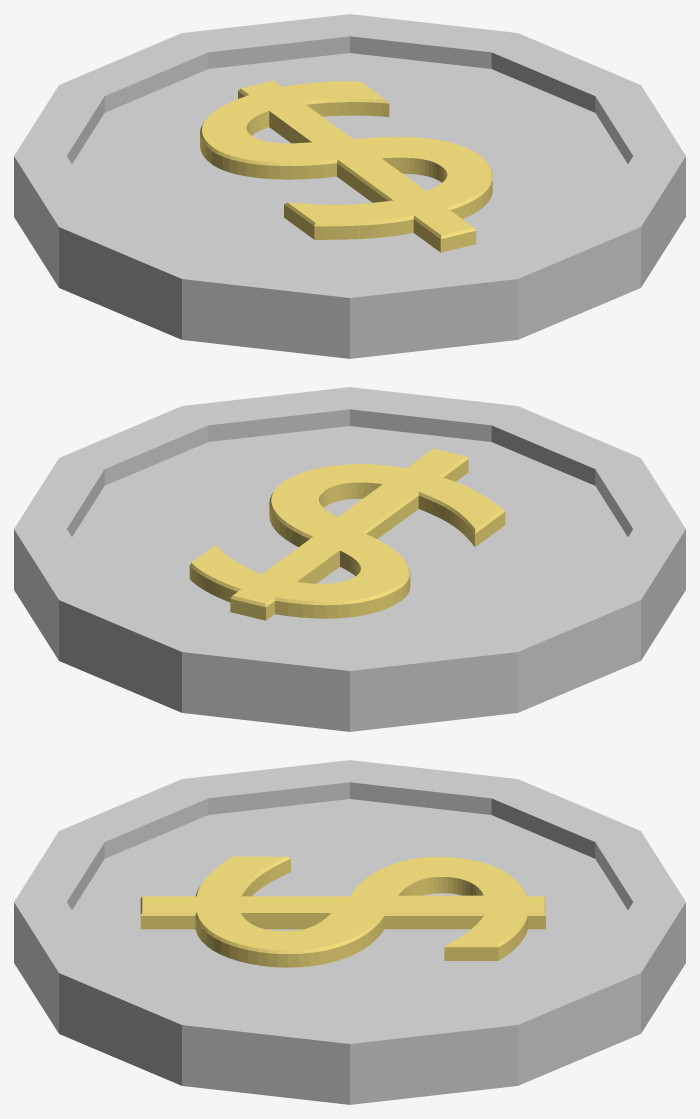
Rendered from Coin.fbx.
3 views of the same model, one above another, from view 1: azimuth 30°, elevation 25°; view 2: azimuth 150°, elevation 25°; view 3: azimuth 270°, elevation 25° (orthographic).
Visible parts, largest first — view 1: Cylinder; view 2: Cylinder; view 3: Cylinder.
Boxes of the visible parts, bbox=[...] form: Cylinder: bbox=[14, 14, 685, 358]; Cylinder: bbox=[14, 387, 685, 731]; Cylinder: bbox=[14, 760, 685, 1104].
Bounding box in the file's own units: 100 × 10 × 100.
